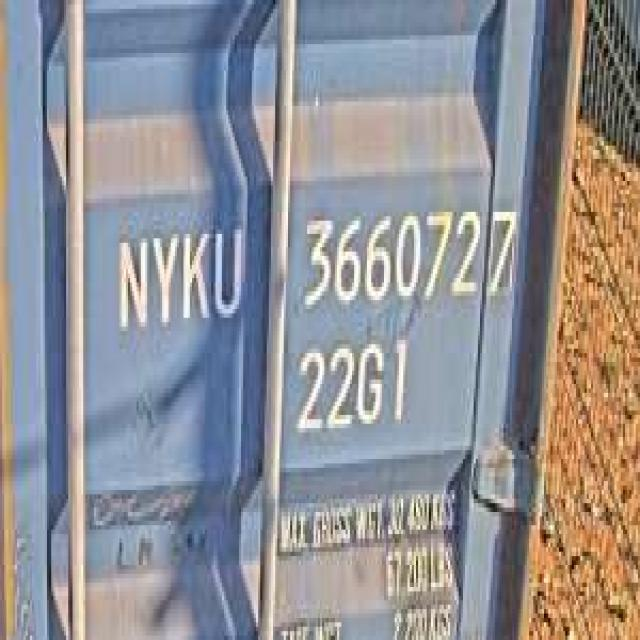dv: (484, 194, 521, 305)
owner: (111, 216, 247, 340)
serial: (294, 194, 482, 318)
size: (290, 331, 416, 437)
